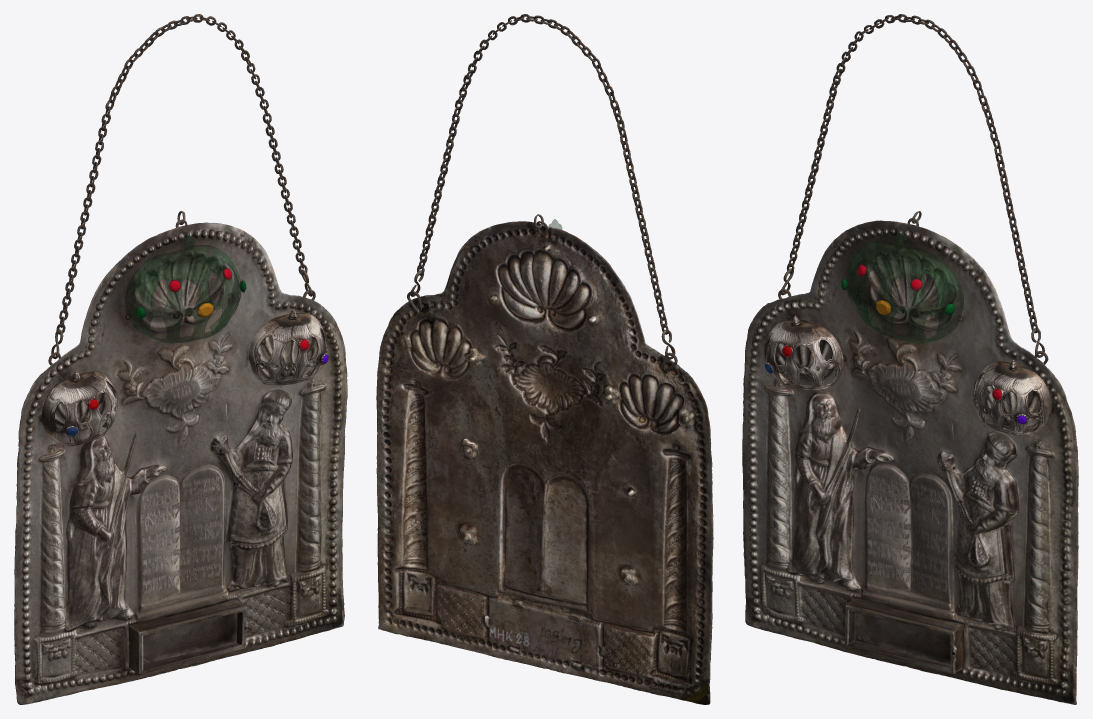
Rendered from preview.glb.
3 views of the same model, side by side, from view 1: azimuth 30°, elevation 25°; view 2: azimuth 150°, elevation 25°; view 3: azimuth 330°, elevation 25° (orthographic).
Parts seen in each view (by area): view 1: Object_4, Object_19, Object_27, Object_15, Object_11, Object_23, Object_21; view 2: Object_4, Object_27; view 3: Object_4, Object_19, Object_27, Object_15, Object_11, Object_23, Object_21.
Part boxes in pixels (box(x1,y1,x2,y2)): Object_4: box(14, 222, 347, 704); Object_19: box(125, 232, 244, 343); Object_27: box(51, 14, 312, 359); Object_15: box(248, 309, 328, 385); Object_11: box(42, 371, 117, 445); Object_23: box(128, 599, 247, 674); Object_21: box(135, 268, 246, 318); Object_4: box(376, 221, 713, 704); Object_27: box(410, 14, 675, 359); Object_4: box(742, 220, 1078, 704); Object_19: box(843, 229, 963, 343); Object_27: box(780, 14, 1044, 357); Object_15: box(972, 360, 1051, 436); Object_11: box(764, 315, 844, 390); Object_23: box(844, 598, 963, 673); Object_21: box(841, 264, 954, 315).
Size of the model in its own units: 0.5867 by 1.09 by 0.1028.
10 materials, 10 textured.
